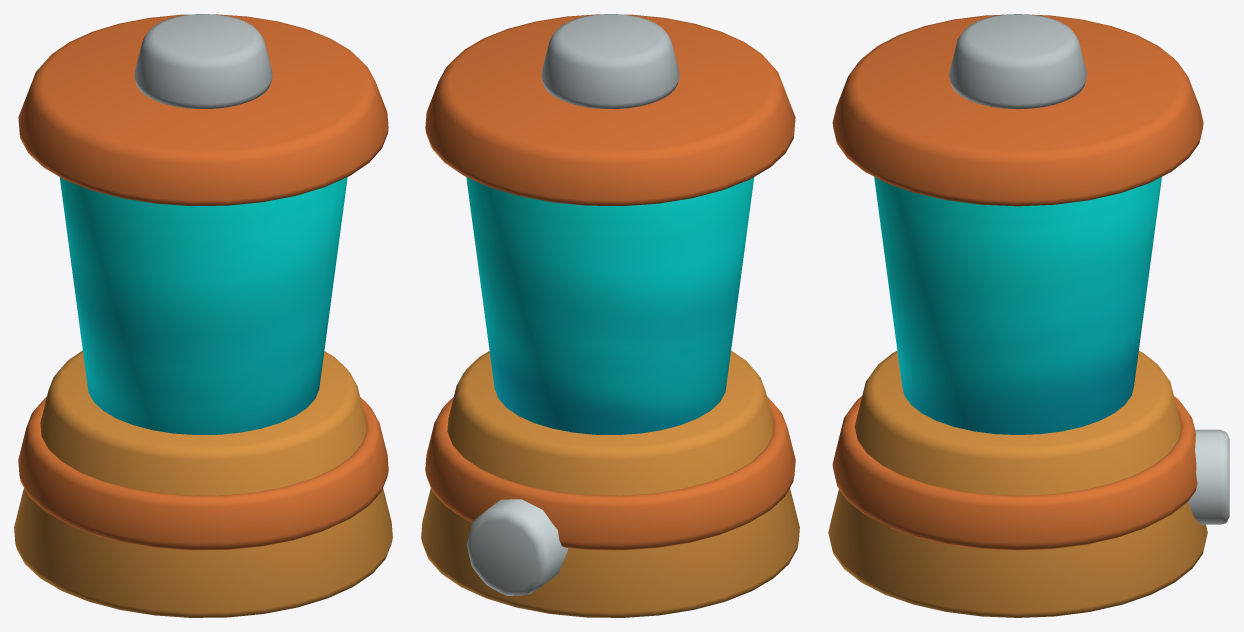
Rendered from Blender.fbx.
The picture shows the model from 3 angles, left to right: view 1: azimuth 30°, elevation 25°; view 2: azimuth 150°, elevation 25°; view 3: azimuth 270°, elevation 25°; orthographic projection.
Visible parts, largest first — view 1: Circle.026; view 2: Circle.026; view 3: Circle.026.
Boxes of the visible parts, x1=… form: Circle.026: x1=14, y1=14, x2=392, y2=617; Circle.026: x1=421, y1=14, x2=799, y2=617; Circle.026: x1=828, y1=14, x2=1229, y2=617.
Bounding box in the file's own units: 4.2 × 6.17 × 4.44.
